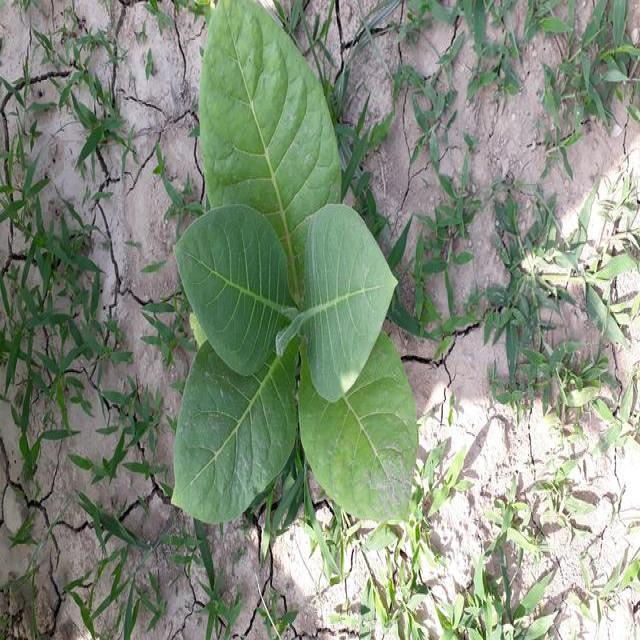crop: (178, 18, 416, 530)
